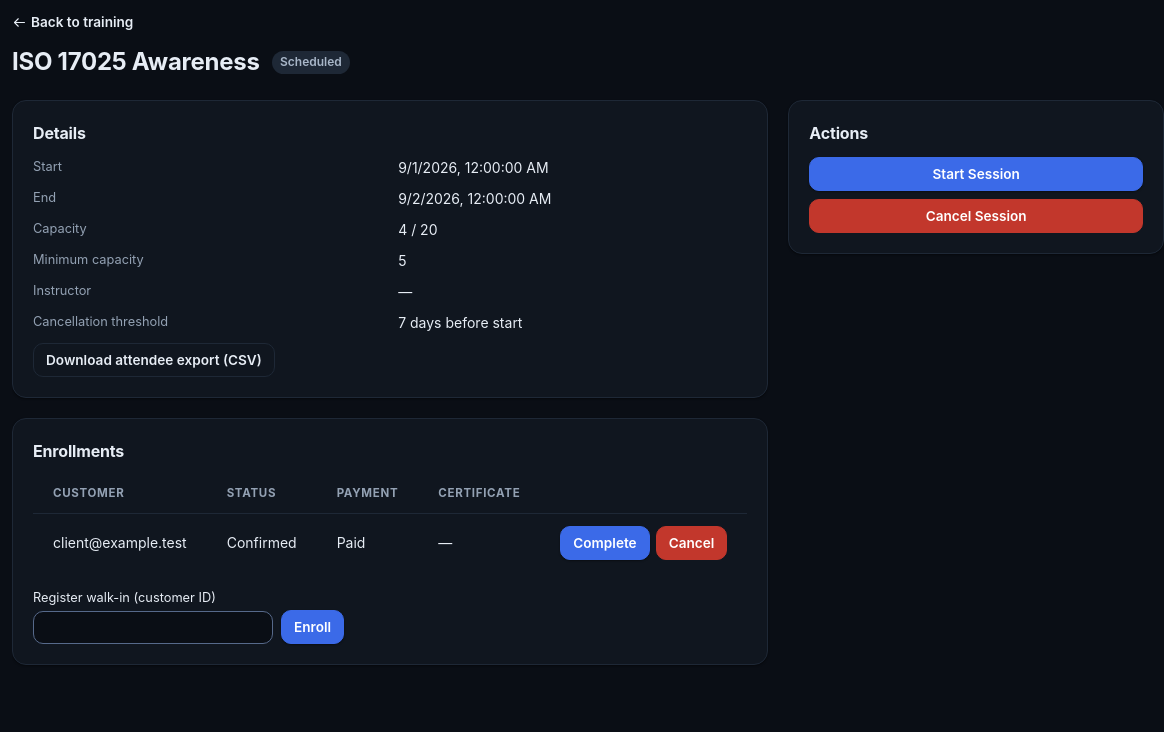
running a session action › surfaces a server rejection
Click the button "Start Session". click: click(976, 174)
box: x1=809 y1=157 x2=1143 y2=191
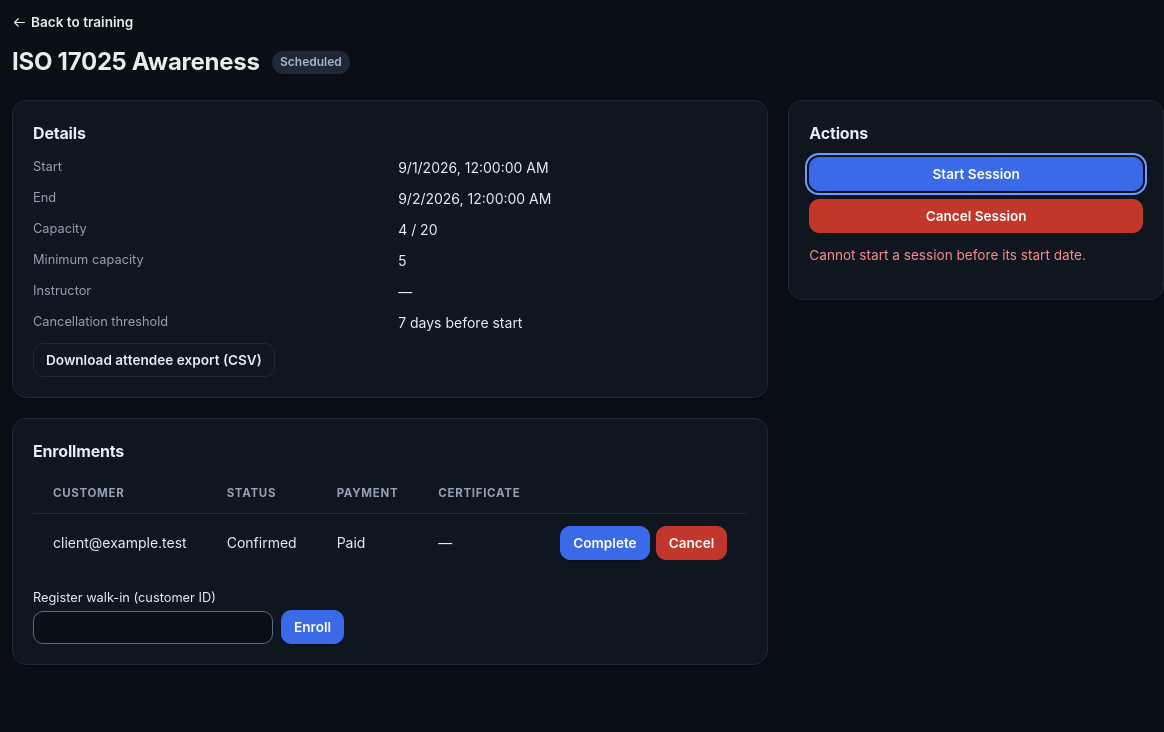
Result: the text "Cannot start a session before its start date." is shown at x1=809 y1=247 x2=1086 y2=263
